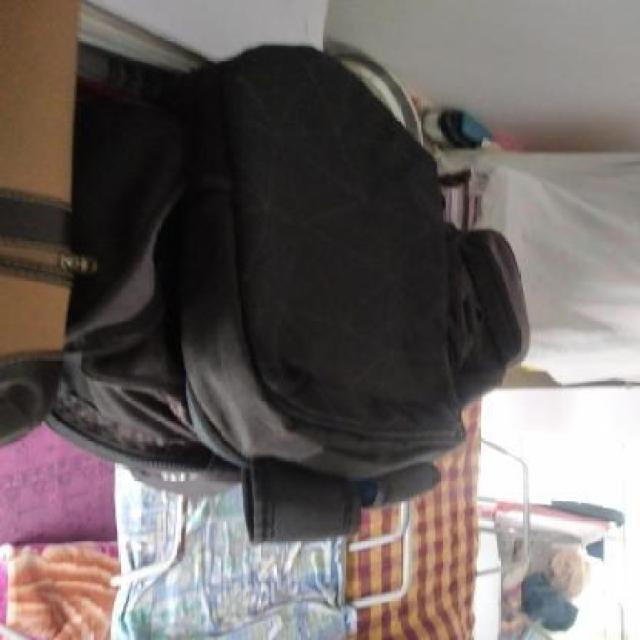backpack: (47, 38, 536, 550)
